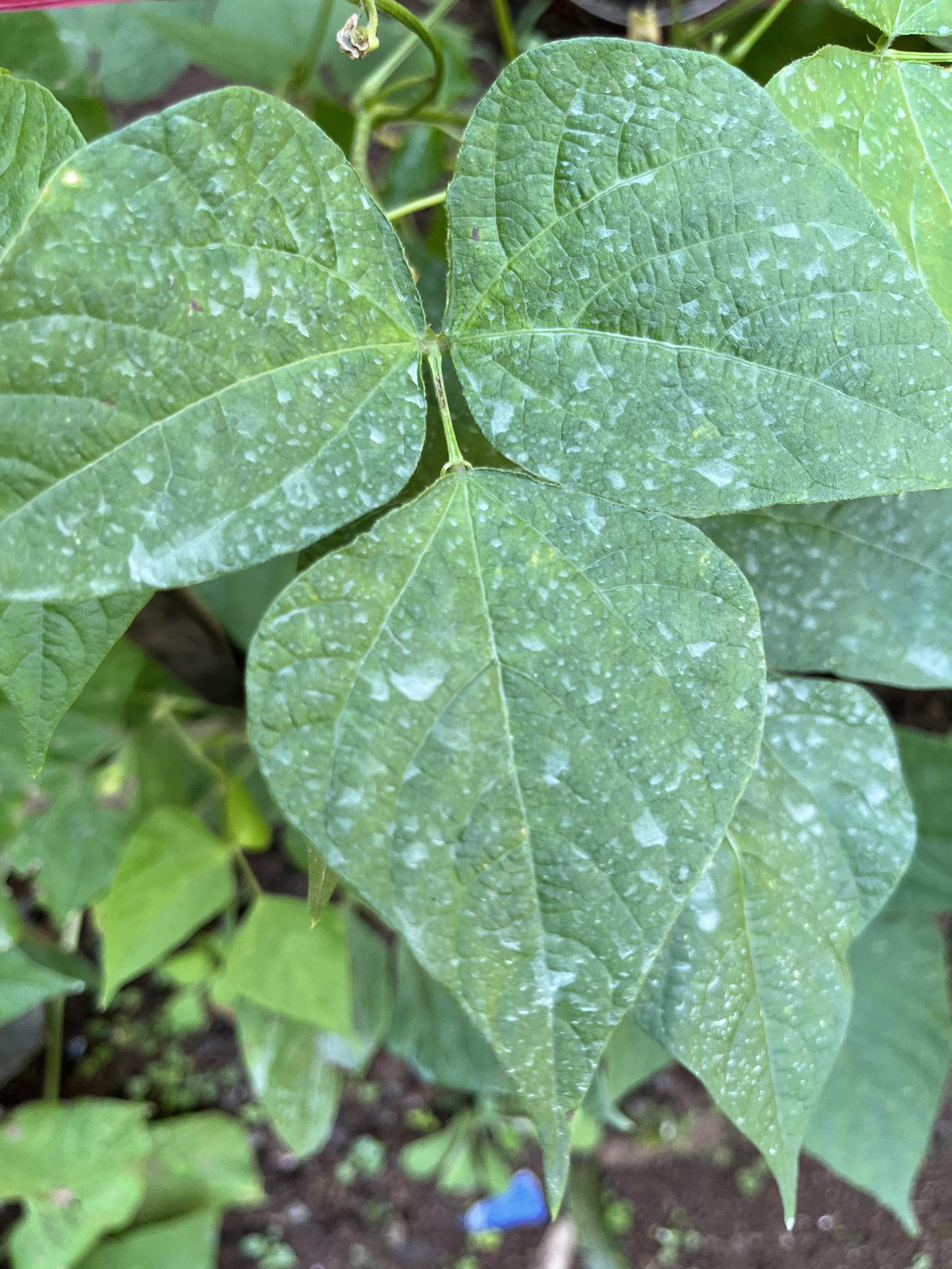embun tepung: (270, 479, 780, 1202), (123, 507, 234, 599)
